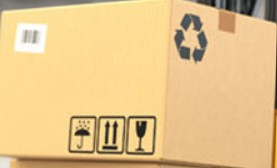stock: (1, 2, 276, 168)
